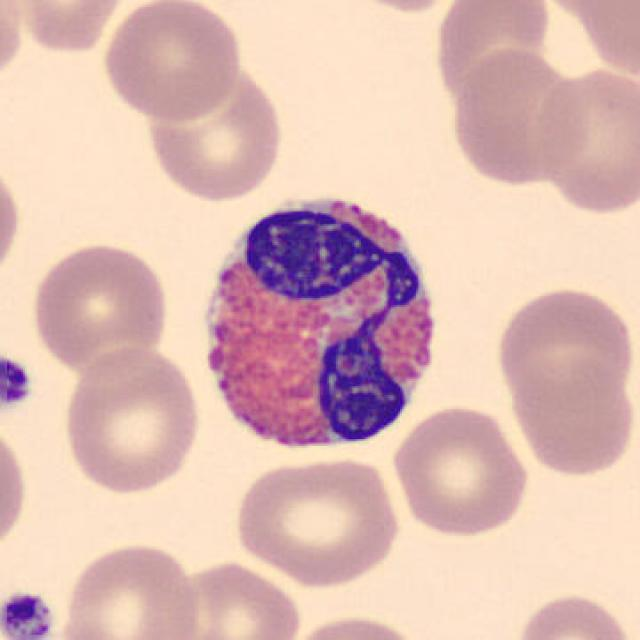Eosinophil: (190, 174, 455, 466)
Platelets: (0, 589, 59, 640), (0, 353, 36, 414)
RBC: (230, 453, 403, 589), (59, 342, 204, 497), (140, 56, 288, 205), (444, 44, 596, 189), (389, 402, 534, 539), (26, 238, 172, 372), (491, 284, 636, 418), (97, 0, 245, 123), (530, 62, 638, 218), (503, 358, 638, 481), (56, 537, 204, 640), (430, 0, 555, 108), (162, 555, 306, 640), (540, 0, 640, 95), (2, 0, 132, 55), (508, 589, 634, 640), (0, 418, 32, 561), (283, 612, 427, 640), (0, 154, 25, 288), (0, 0, 25, 88), (331, 0, 473, 14)
